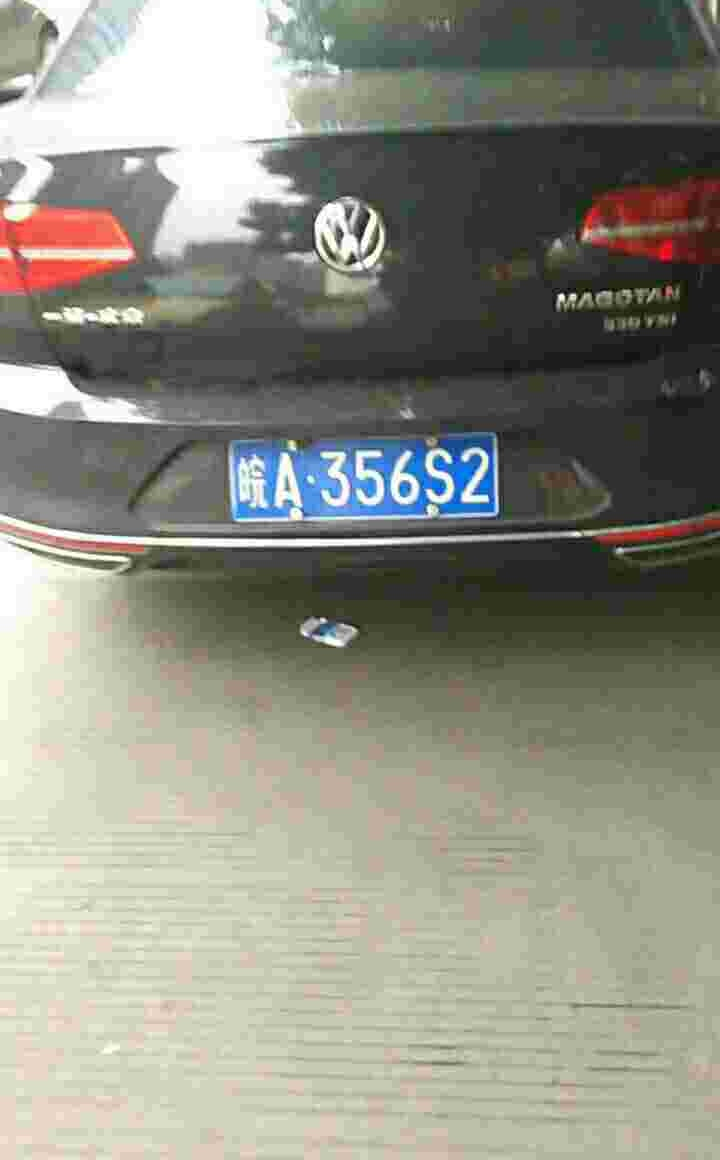license_plate: (226, 441, 488, 523)
